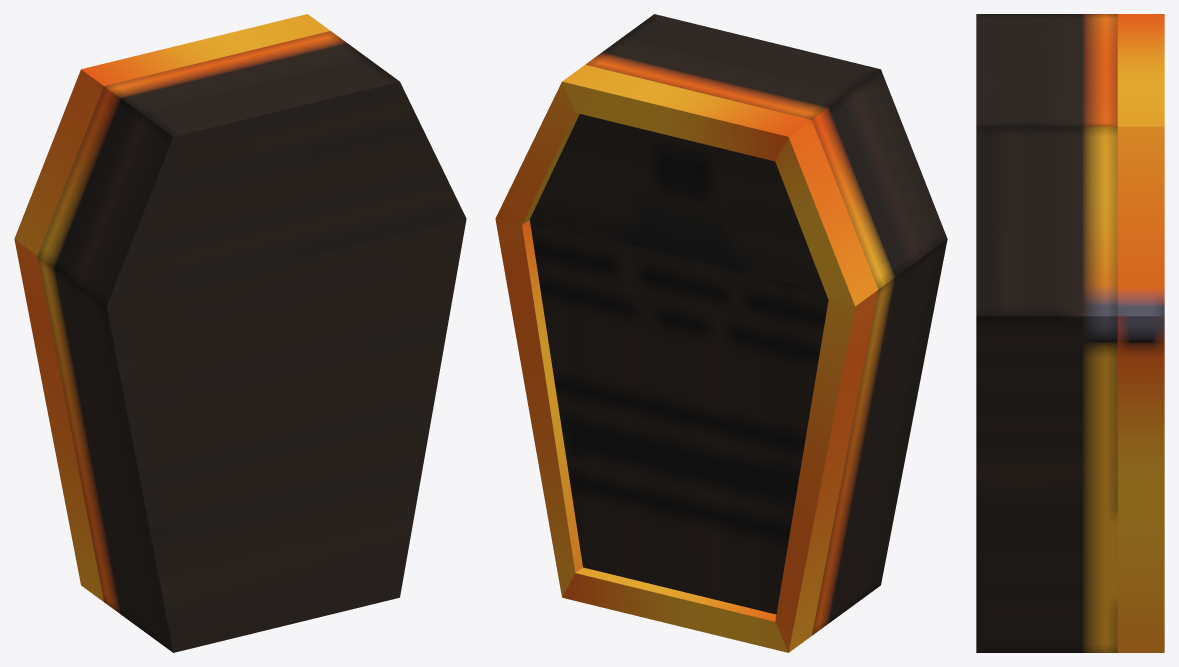
The model's file is m_coffin.fbx.
3 views of the same model, side by side, from view 1: azimuth 30°, elevation 25°; view 2: azimuth 150°, elevation 25°; view 3: azimuth 270°, elevation 25° (orthographic).
Visible parts, largest first — view 1: Cube.019, Cube.026; view 2: Cube.026, Cube.019; view 3: Cube.019, Cube.026.
Part boxes in pixels (<box>): Cube.019: <box>37,31,466,652</box>; Cube.026: <box>14,14,330,601</box>; Cube.026: <box>495,64,878,652</box>; Cube.019: <box>585,14,947,635</box>; Cube.019: <box>976,14,1117,652</box>; Cube.026: <box>1117,14,1164,652</box>.
Bounding box in the file's own units: 135 × 185 × 60.
1 material, 1 textured.
